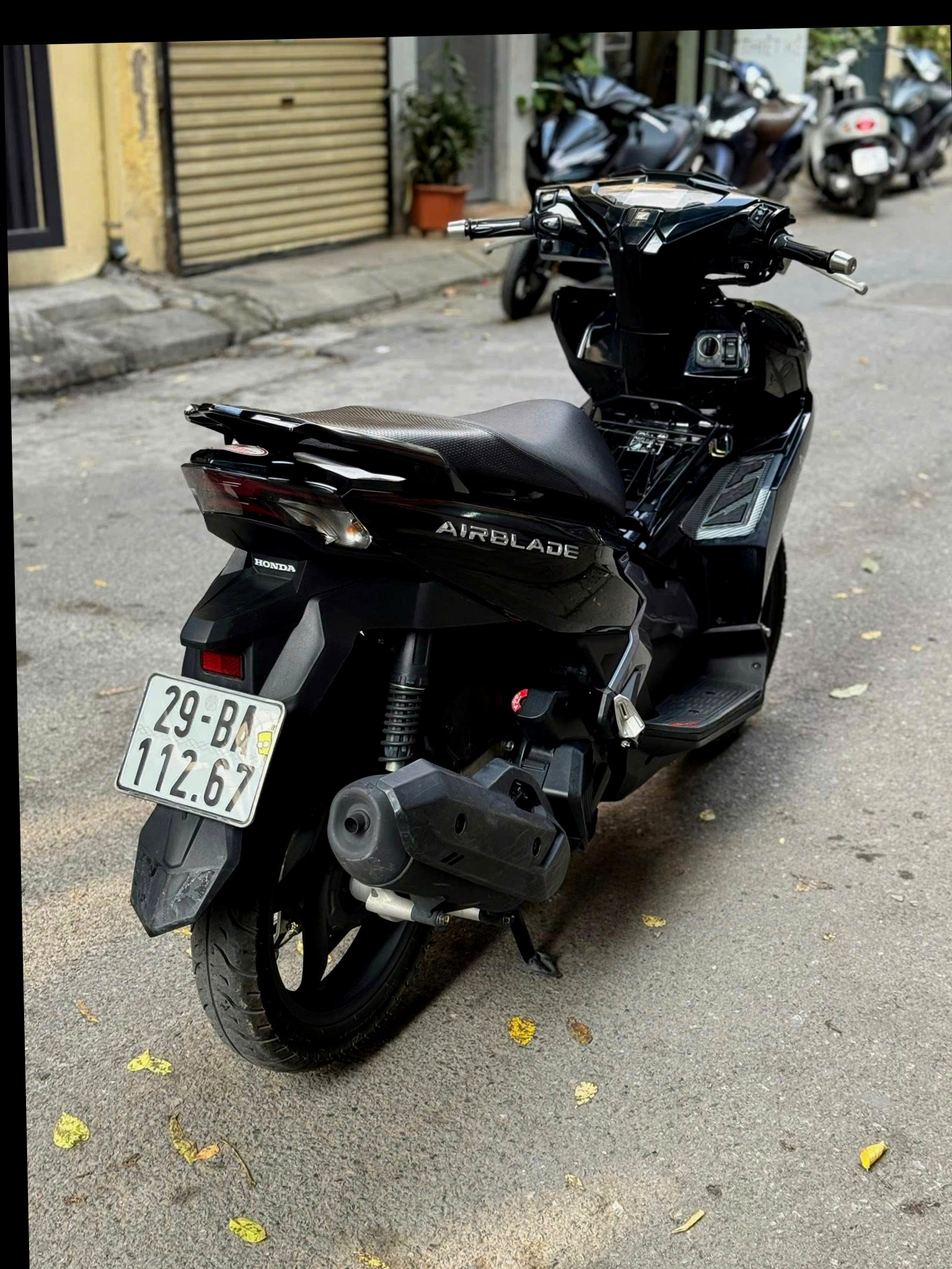Bien-so: (115, 673, 287, 829)
